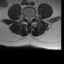CCS_normal: (28, 15, 30, 23)
LFS_normal: (32, 14, 34, 20)
LLS_normal: (30, 15, 32, 22)
RFS_normal: (25, 14, 27, 21)
RLS_normal: (27, 15, 28, 22)
